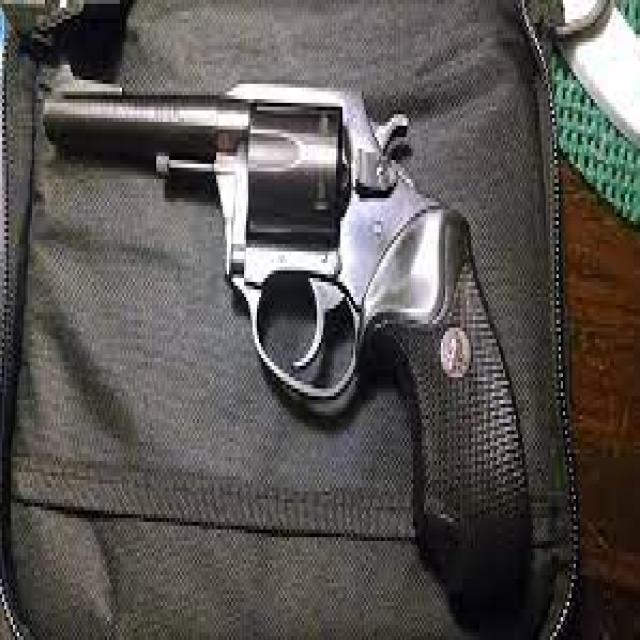Gun: (29, 66, 588, 596), (241, 87, 292, 99)
